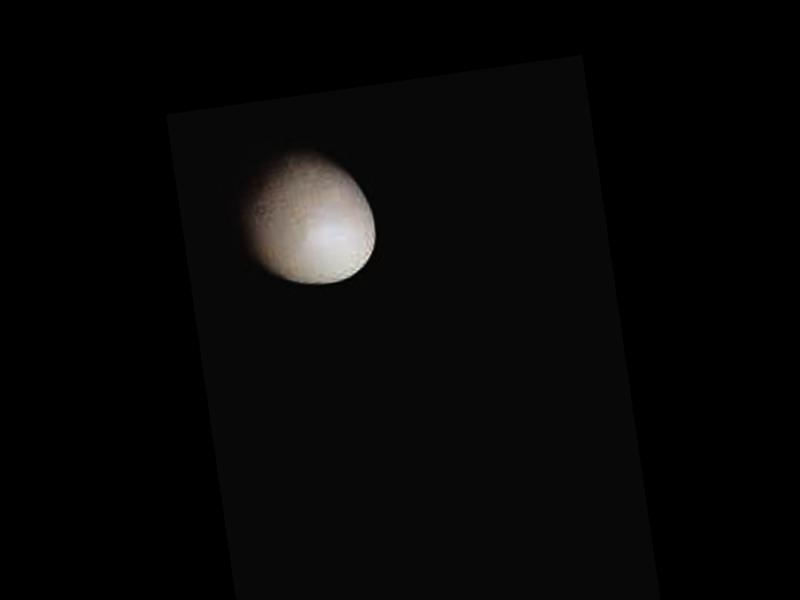Eggs: (226, 134, 383, 295)
